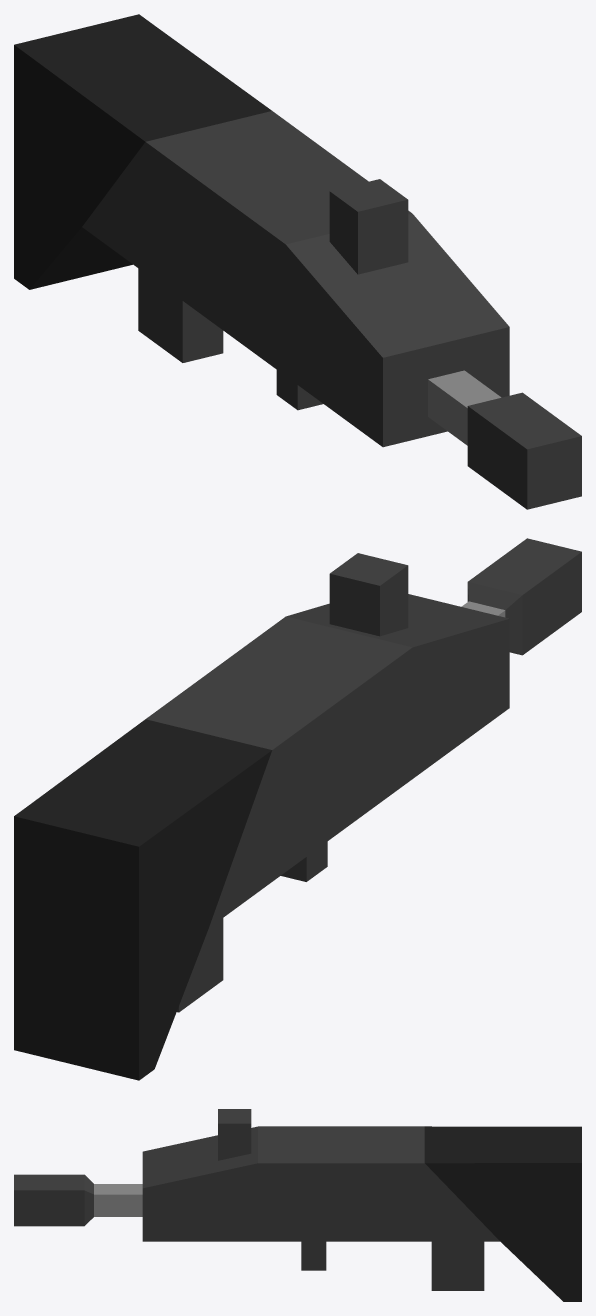
Rendered from minigun.glb.
3 renders of one model, top to bottom at view 1: azimuth 30°, elevation 25°; view 2: azimuth 150°, elevation 25°; view 3: azimuth 270°, elevation 25°, orthographic. The views are drawn at different scales.
Parts seen in each view (by area): view 1: mesh; view 2: mesh; view 3: mesh.
Part boxes in pixels (box(x1,y1,x2,y2)): mesh: box(14, 14, 581, 509); mesh: box(14, 538, 581, 1080); mesh: box(14, 1109, 581, 1301).
Size of the model in its own units: 0.2 by 0.4285 by 1.31.
Materials: 1 (1 with a texture image).
